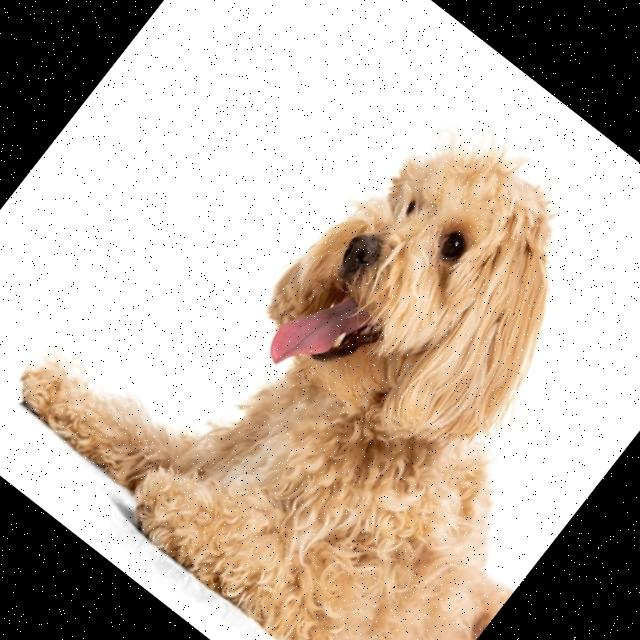Dog: (0, 5, 640, 640)
